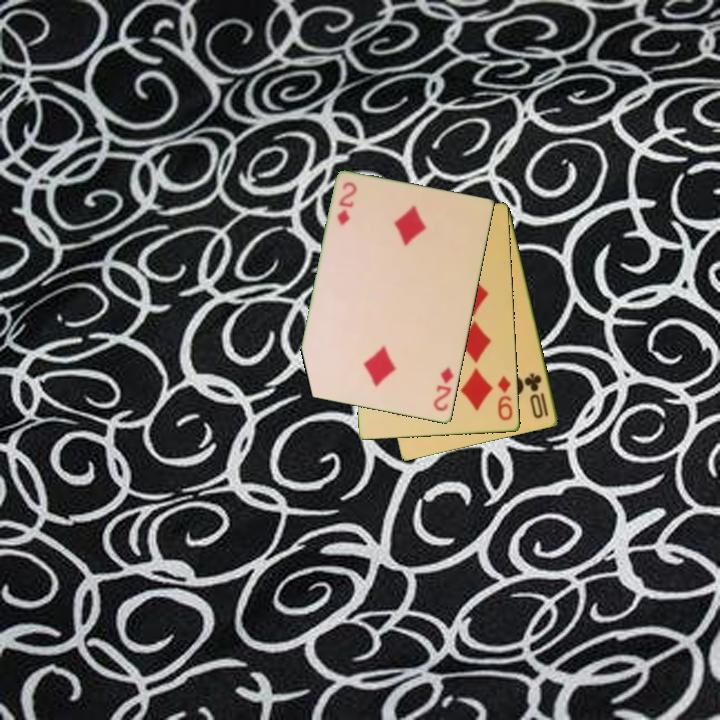10c: (522, 370, 552, 422)
2d: (430, 363, 457, 414), (334, 179, 360, 229)
9d: (494, 372, 516, 423)
